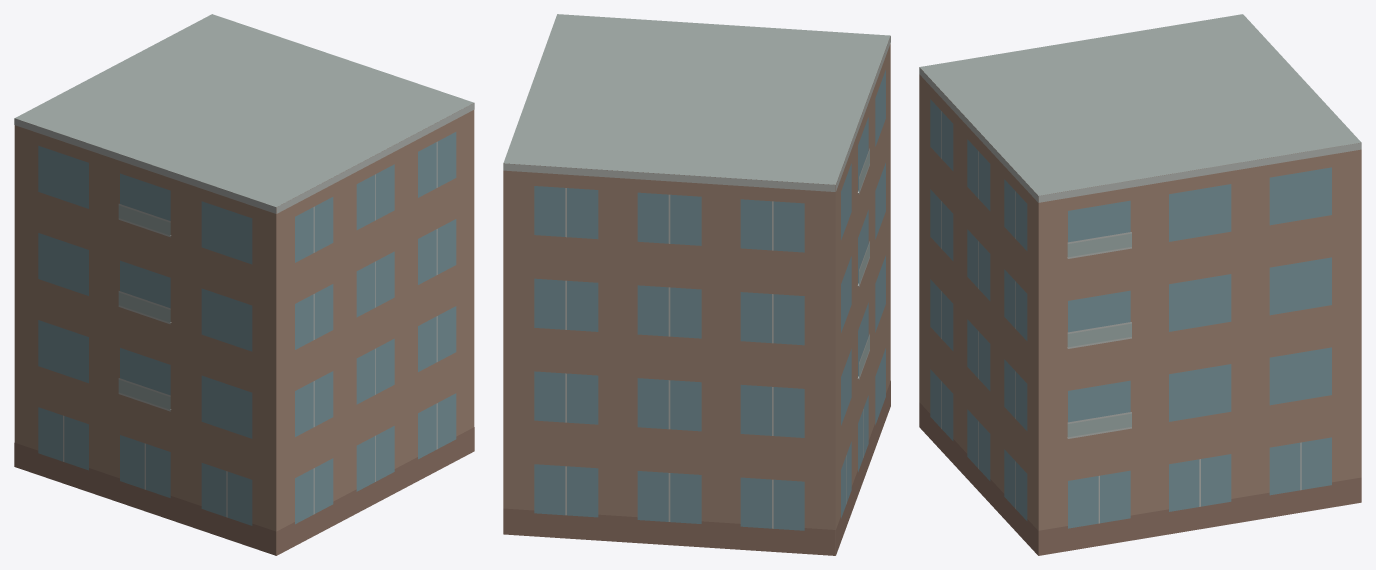
The model's file is survey-upis-32658706.glb.
3 renders of one model, left to right at view 1: azimuth 30°, elevation 25°; view 2: azimuth 150°, elevation 25°; view 3: azimuth 270°, elevation 25°, orthographic. The views are drawn at different scales.
Visible parts, largest first — view 1: survey-upis-32658706.tmp; view 2: survey-upis-32658706.tmp; view 3: survey-upis-32658706.tmp.
Part boxes in pixels (left/top/right/bottom): survey-upis-32658706.tmp: left=14, top=14, right=474, bottom=555; survey-upis-32658706.tmp: left=503, top=14, right=890, bottom=555; survey-upis-32658706.tmp: left=919, top=14, right=1361, bottom=555.
Size of the model in its own units: 13.53 by 12.48 by 13.9.
